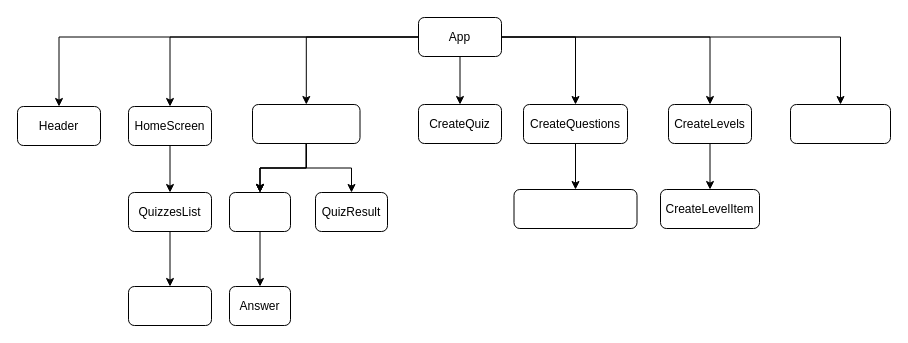
This 908x343 diagram has some shape labels left out. Each missing label, with the centre of its shape:
CreateQuestionItem: point 575,208
CreationResult: point 840,124
Question: point 259,212
QuizItem: point 170,306
ShowQuizScreen: point 306,124
